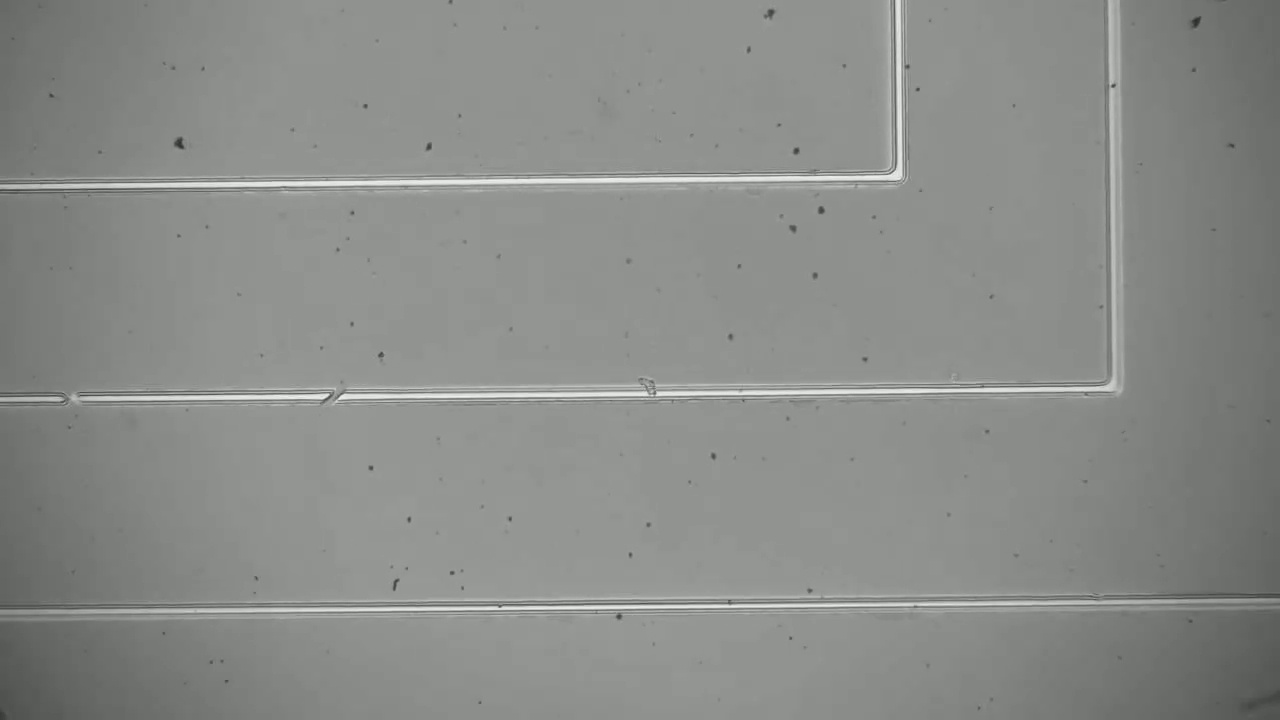open: (43, 381, 94, 419), (309, 377, 355, 418)
stains_enbedded: (628, 366, 665, 413)
